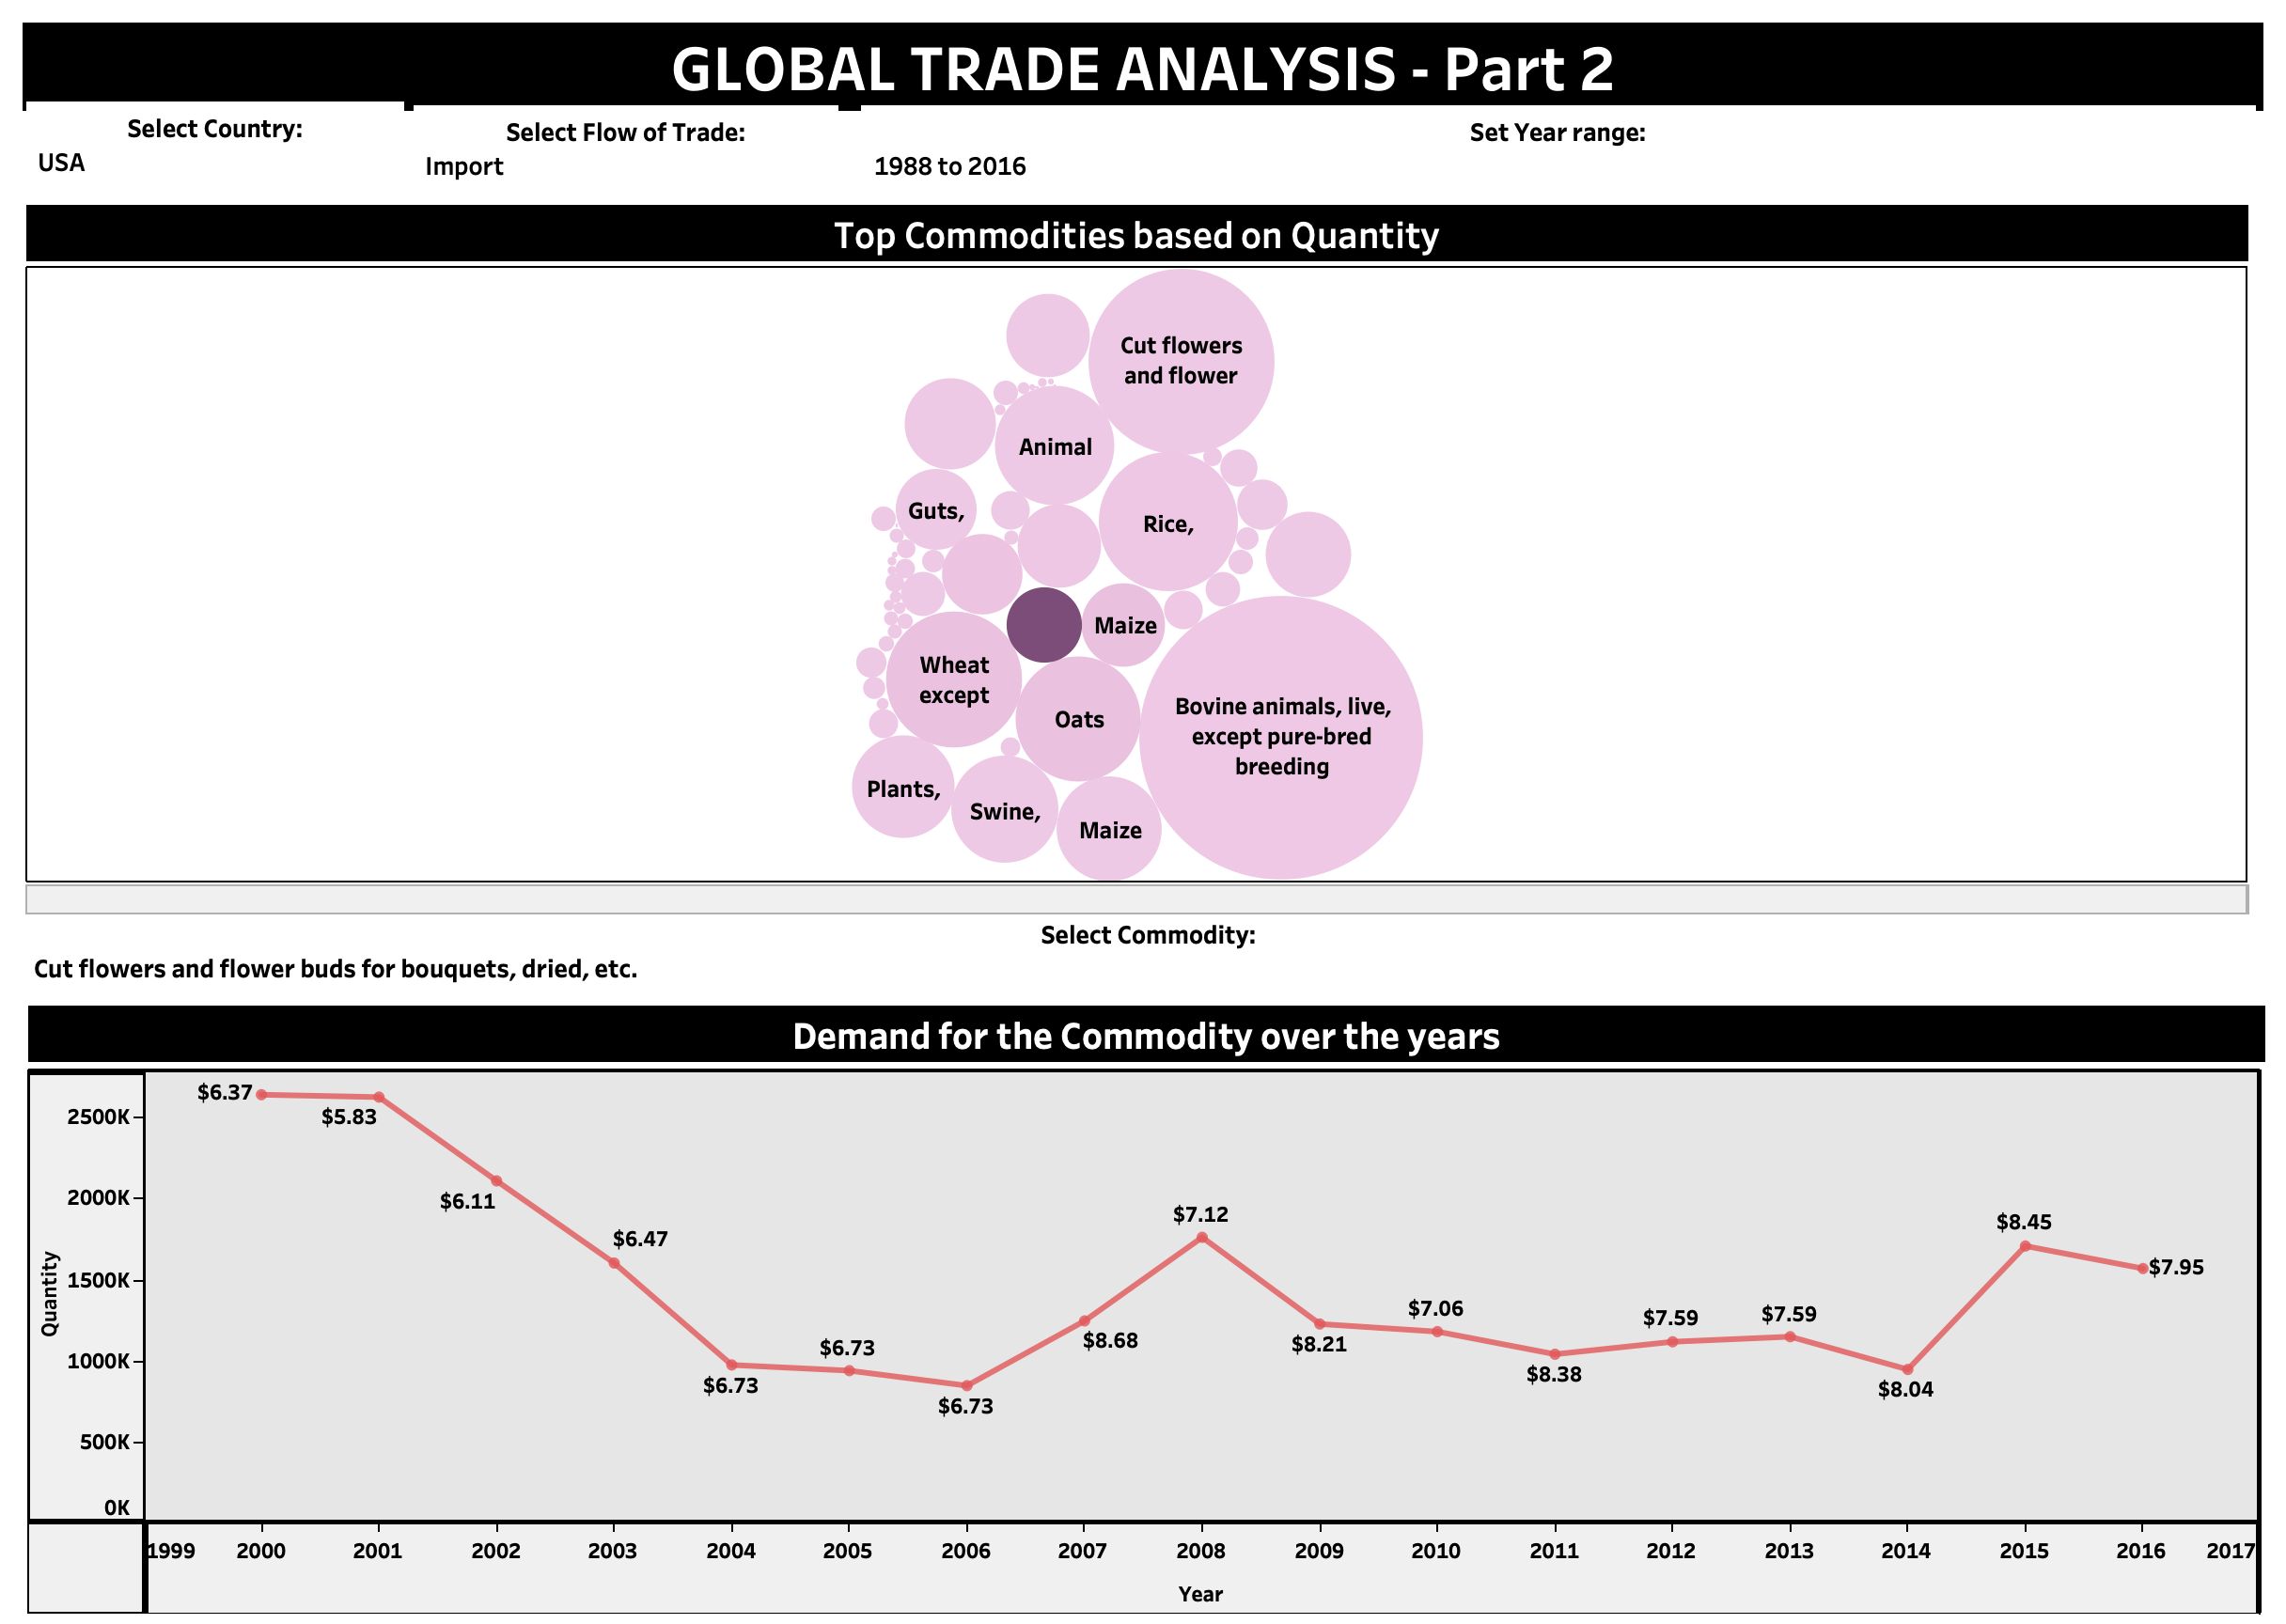

Layout of this report page (visuals, bound fields, positions):
{"tool":"tableau","page":{"name":"GLOBAL TRADE ANALYSIS - 2 ","canvas":[1216,864],"ordinal":1},"visuals":[{"type":"title","box":[8,8,1200,55]},{"type":"filter","title":"Top Commodities based on Trade Value","param":"[federated.1bxhuul1wvcy0012xsuoj0f1pn9y].[none:Country:nk]","box":[14.4,53.8,201.1,50.2]},{"type":"filter","title":"Top Commodities based on Trade Value","param":"[federated.1bxhuul1wvcy0012xsuoj0f1pn9y].[none:Flow:nk]","box":[220.2,55.6,226.2,53.8]},{"type":"filter","title":"Top Commodities based on Trade Value","param":"[federated.1bxhuul1wvcy0012xsuoj0f1pn9y].[none:Year:qk]","box":[458.4,56.5,742.1,50.2]},{"type":"worksheet","title":"Top Commodities based on Trade Value","mark":"Circle","box":[14.4,109.3,1182.5,378.2]},{"type":"filter","title":"Demand for the Commodity over the years (1988 to 2016)","param":"[federated.1bxhuul1wvcy0012xsuoj0f1pn9y].[none:Commodity:nk]","box":[15.6,486.7,1190.9,43.9]},{"type":"worksheet","title":"Demand for the Commodity over the years (1988 to 2016)","mark":"Line","rows":["Quantity"],"cols":["Year"],"box":[14.4,535.1,1189.7,325.3]}]}

Visuals, with their boxes in screenshot pixels (x1, y1, x2, y2), scaled from the page's 1216x864 canvas onto the 2286x1624 screenshot:
title: [x1=15, y1=15, x2=2271, y2=118]
"Top Commodities based on Trade Value" filter: [x1=27, y1=101, x2=405, y2=195]
"Top Commodities based on Trade Value" filter: [x1=414, y1=104, x2=839, y2=206]
"Top Commodities based on Trade Value" filter: [x1=862, y1=106, x2=2257, y2=200]
"Top Commodities based on Trade Value" worksheet (Circle marks): [x1=27, y1=206, x2=2250, y2=916]
"Demand for the Commodity over the years (1988 to 2016)" filter: [x1=29, y1=914, x2=2268, y2=997]
"Demand for the Commodity over the years (1988 to 2016)" worksheet (Line marks): [x1=27, y1=1006, x2=2263, y2=1617]
